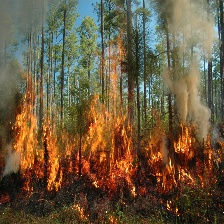fire: (77, 36, 139, 193), (6, 84, 73, 196), (148, 117, 224, 198), (70, 201, 90, 220), (159, 203, 180, 218), (96, 212, 117, 224)
smoke: (160, 1, 220, 131), (1, 1, 56, 102)
